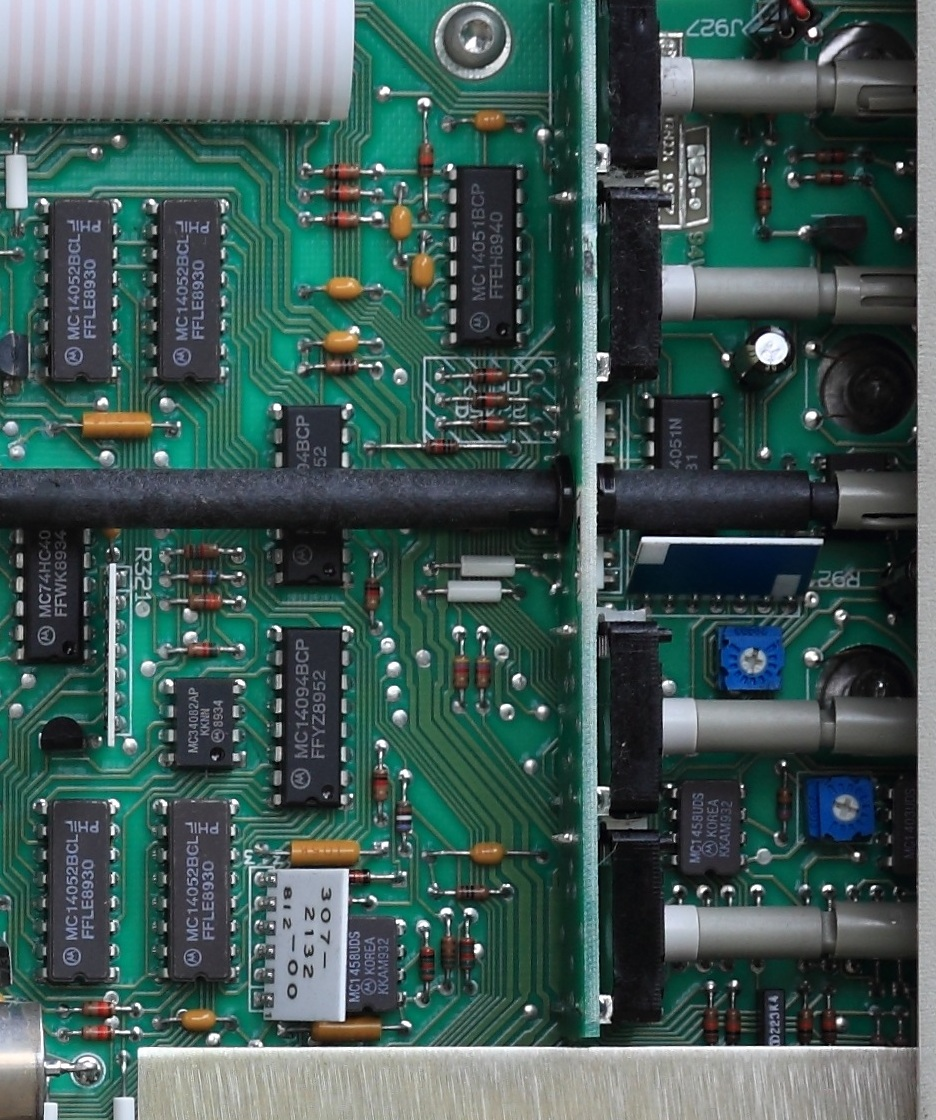Capacitor: (718, 322, 798, 396)
Diode: (338, 866, 378, 888)
Resistor: (458, 387, 519, 412), (462, 366, 516, 388), (179, 566, 230, 589), (463, 413, 516, 435), (447, 881, 495, 905), (317, 181, 367, 204), (792, 1002, 817, 1048), (315, 209, 365, 231), (317, 160, 369, 181), (772, 780, 795, 827), (751, 177, 774, 224), (360, 573, 384, 618), (391, 796, 416, 839), (438, 929, 459, 980), (369, 762, 393, 806), (314, 356, 365, 376), (179, 591, 230, 611), (459, 929, 479, 980), (817, 1006, 841, 1048), (416, 437, 465, 457), (415, 139, 436, 185), (472, 650, 493, 696), (451, 648, 471, 696), (175, 541, 228, 559), (722, 1004, 744, 1047), (417, 942, 437, 988), (76, 999, 119, 1020), (810, 145, 853, 166), (810, 166, 852, 187), (701, 1004, 721, 1047), (179, 640, 224, 659), (77, 1023, 119, 1042)
